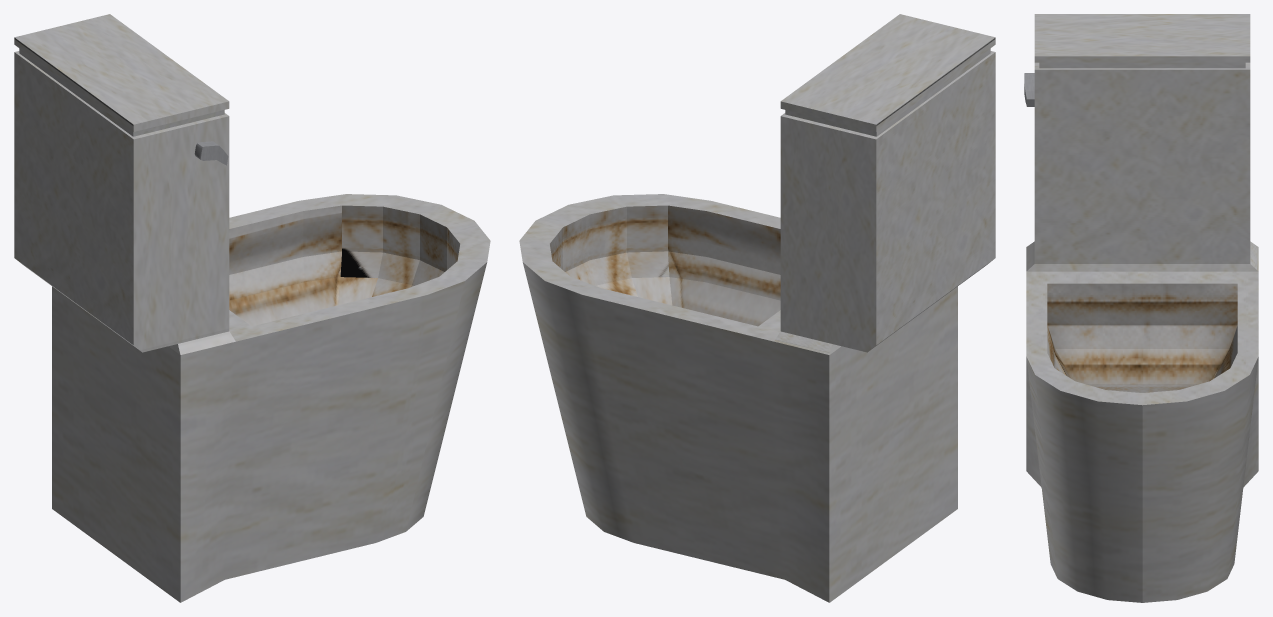
File: skibidi.fbx
3 renders of one model, left to right at view 1: azimuth 30°, elevation 25°; view 2: azimuth 150°, elevation 25°; view 3: azimuth 270°, elevation 25°, orthographic. The views are drawn at different scales.
Visible parts, largest first — view 1: pCube3; view 2: pCube3; view 3: pCube3.
Boxes of the visible parts, x1=… form: pCube3: x1=14, y1=14, x2=490, y2=602; pCube3: x1=519, y1=14, x2=995, y2=602; pCube3: x1=1024, y1=14, x2=1258, y2=602.
Bounding box in the file's own units: 2.61 × 3.03 × 1.47.
